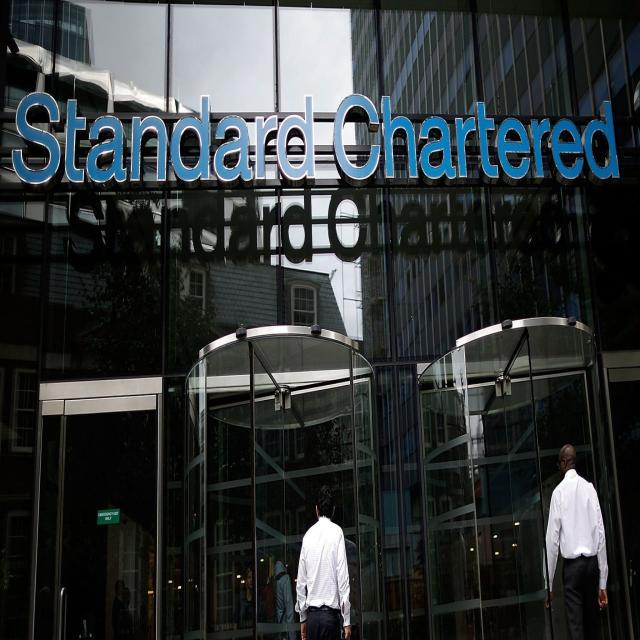Standard Chartered: (11, 89, 622, 190)
